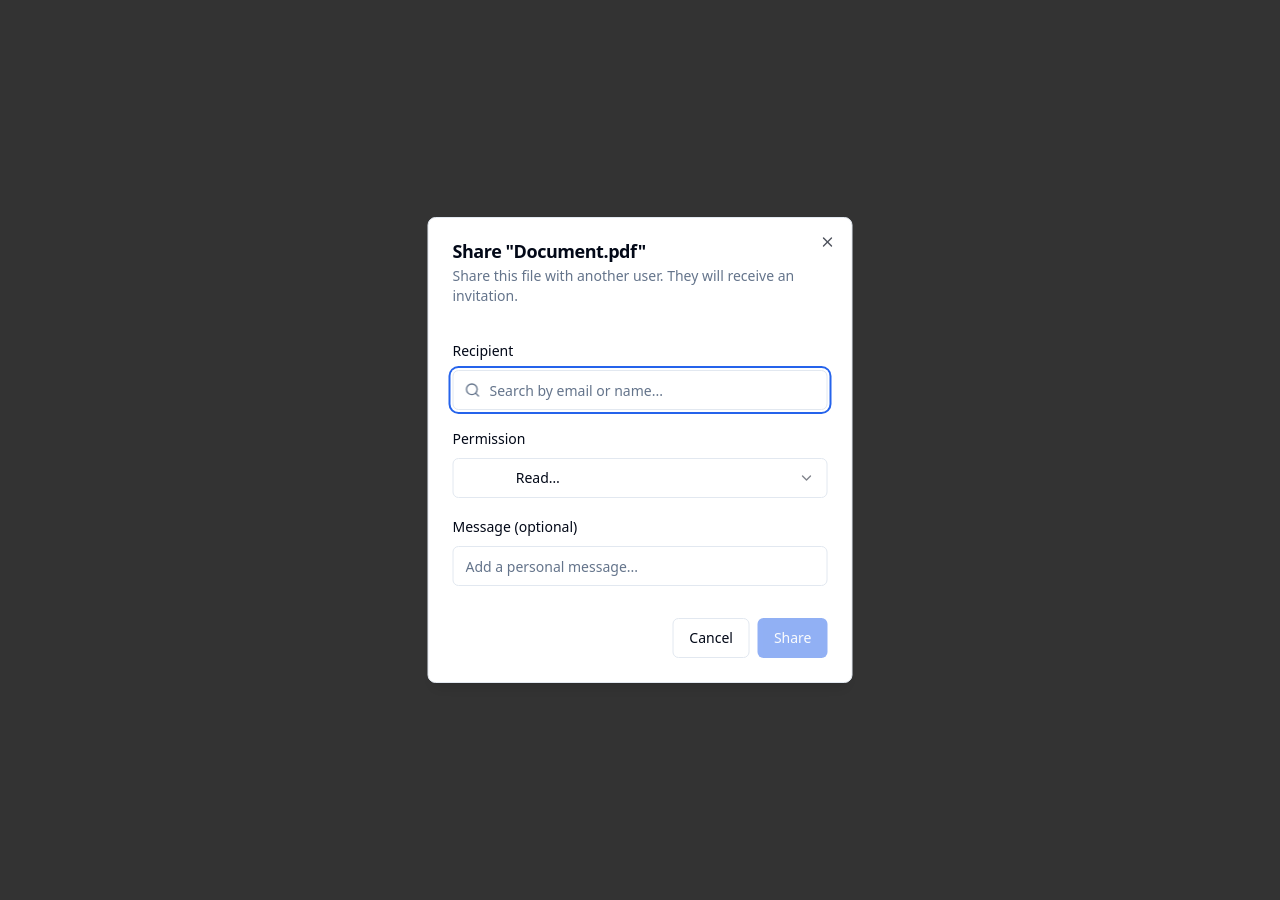
ShareDialog › should select recipient on click
The width and height of the screenshot is (1280, 900).
In the field with placeholder "Search by email or name...": (640,390) [452,370,828,410], type "al"
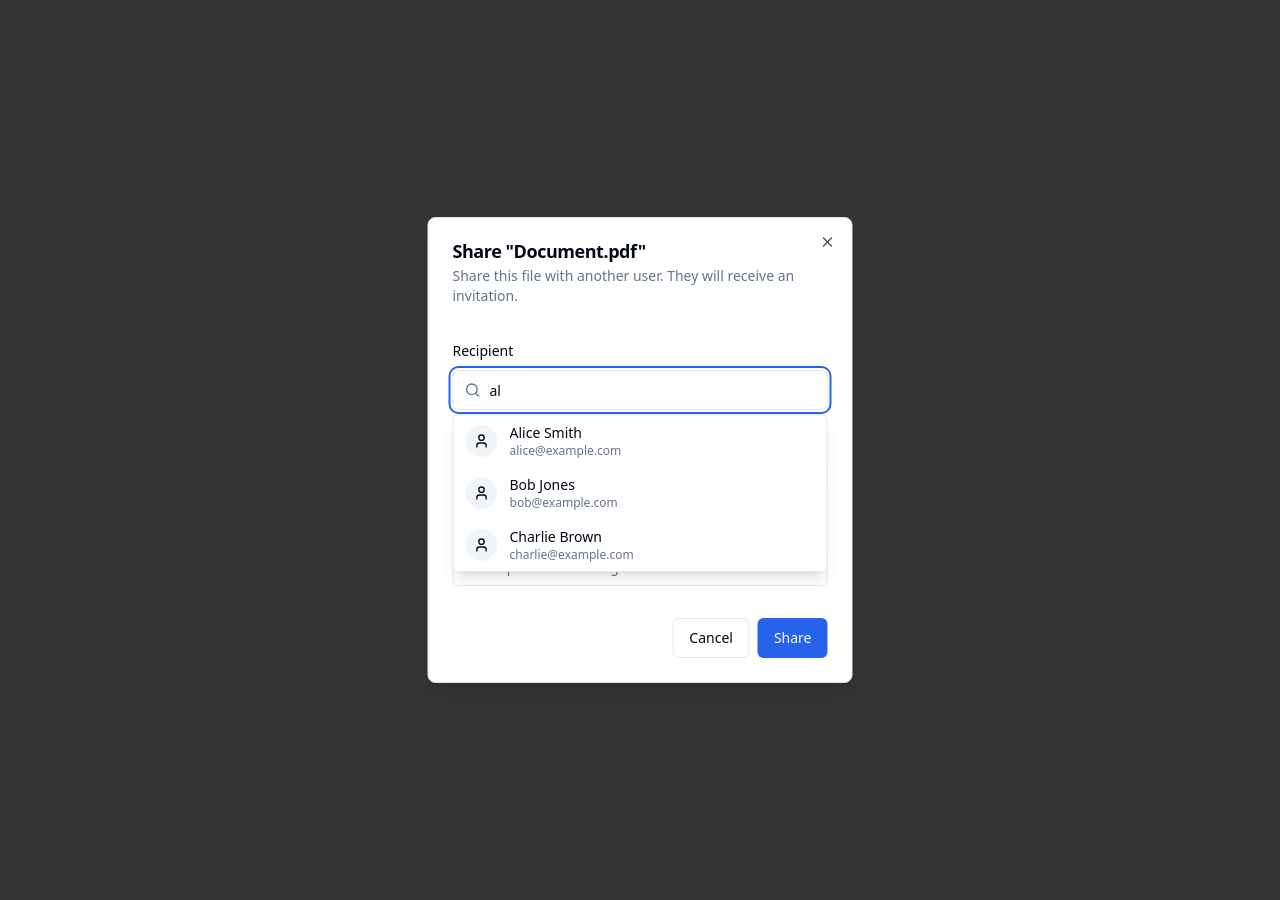
Check: the text "Alice Smith" is shown
Click the text "Alice Smith": (546,432) [510,423,582,442]
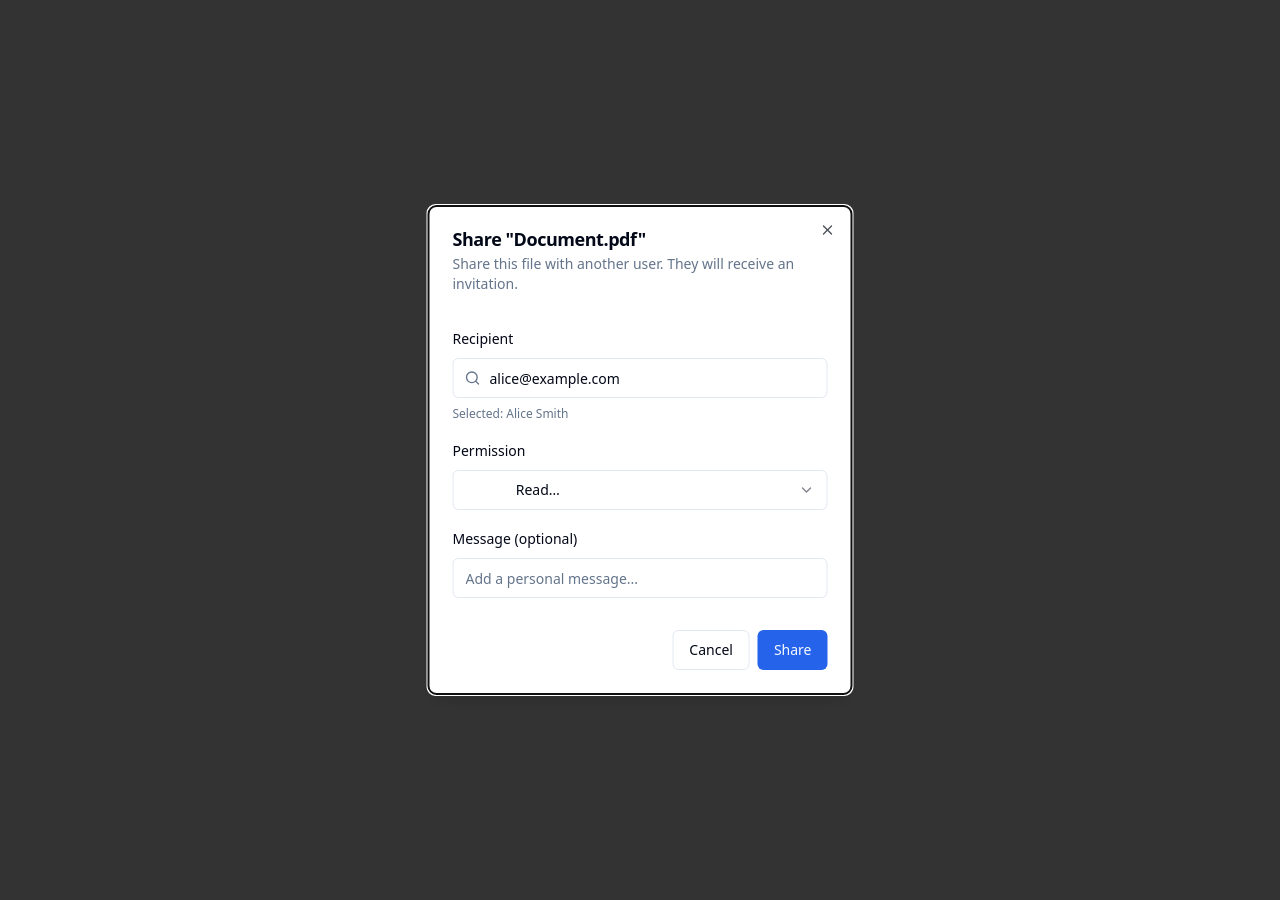
Check: the field with placeholder "Search by email or name..." holds "alice@example.com", box [452,358,828,398]
Check: the text "Selected: Alice Smith" is shown, box [452,405,568,422]
